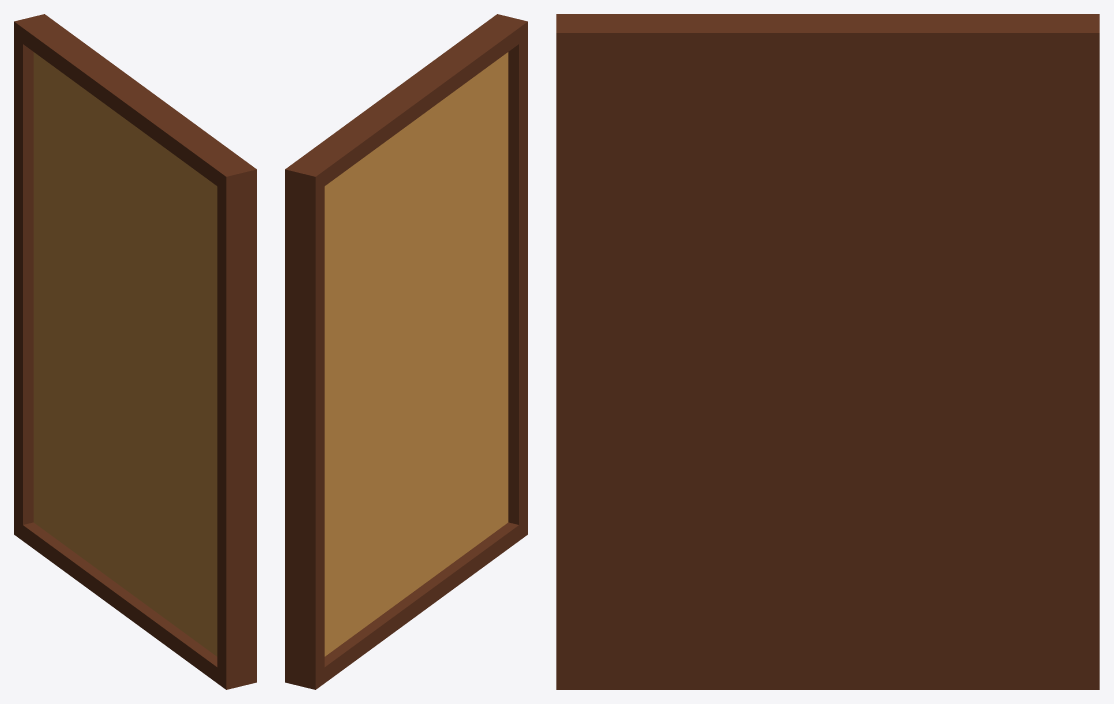
The model's file is corridoorPOSTER.fbx.
The picture shows the model from 3 angles, left to right: view 1: azimuth 30°, elevation 25°; view 2: azimuth 150°, elevation 25°; view 3: azimuth 270°, elevation 25°; orthographic projection. The views are drawn at different scales.
Visible parts, largest first — view 1: poster.002; view 2: poster.002; view 3: poster.002.
Boxes of the visible parts, x1=… form: poster.002: x1=14, y1=14, x2=256, y2=689; poster.002: x1=285, y1=14, x2=527, y2=689; poster.002: x1=556, y1=14, x2=1099, y2=689.
Bounding box in the file's own units: 20 × 320 × 240.
